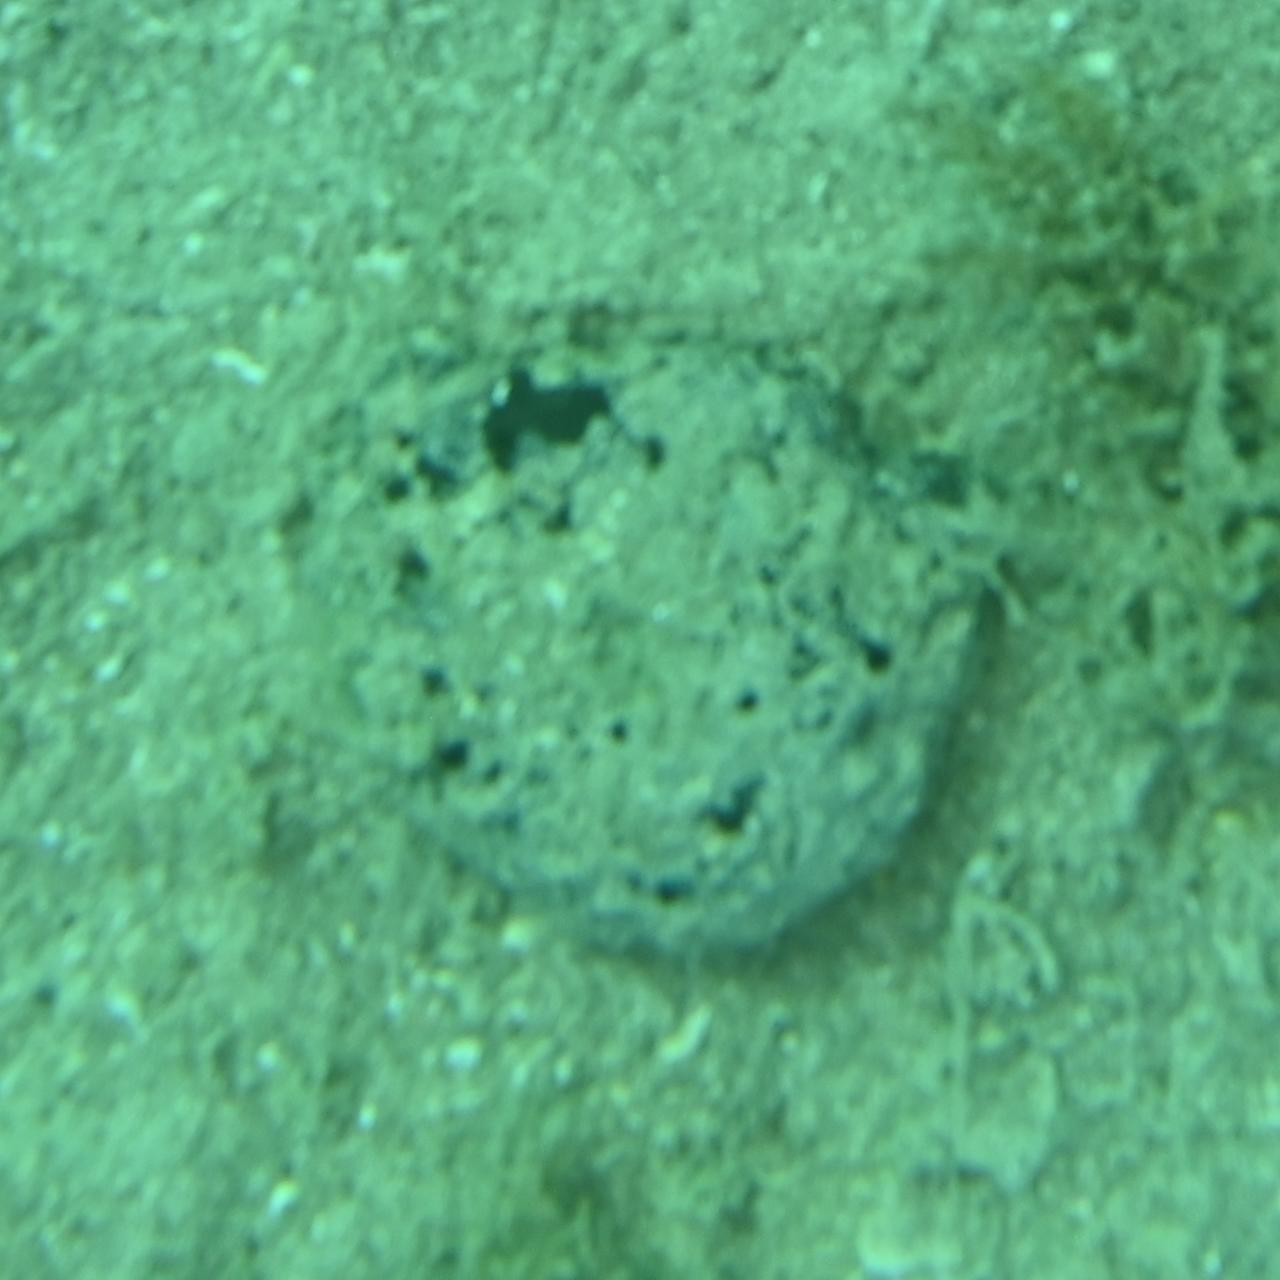Keratosa -cfr Sarcotragus-: (279, 315, 1001, 965)
